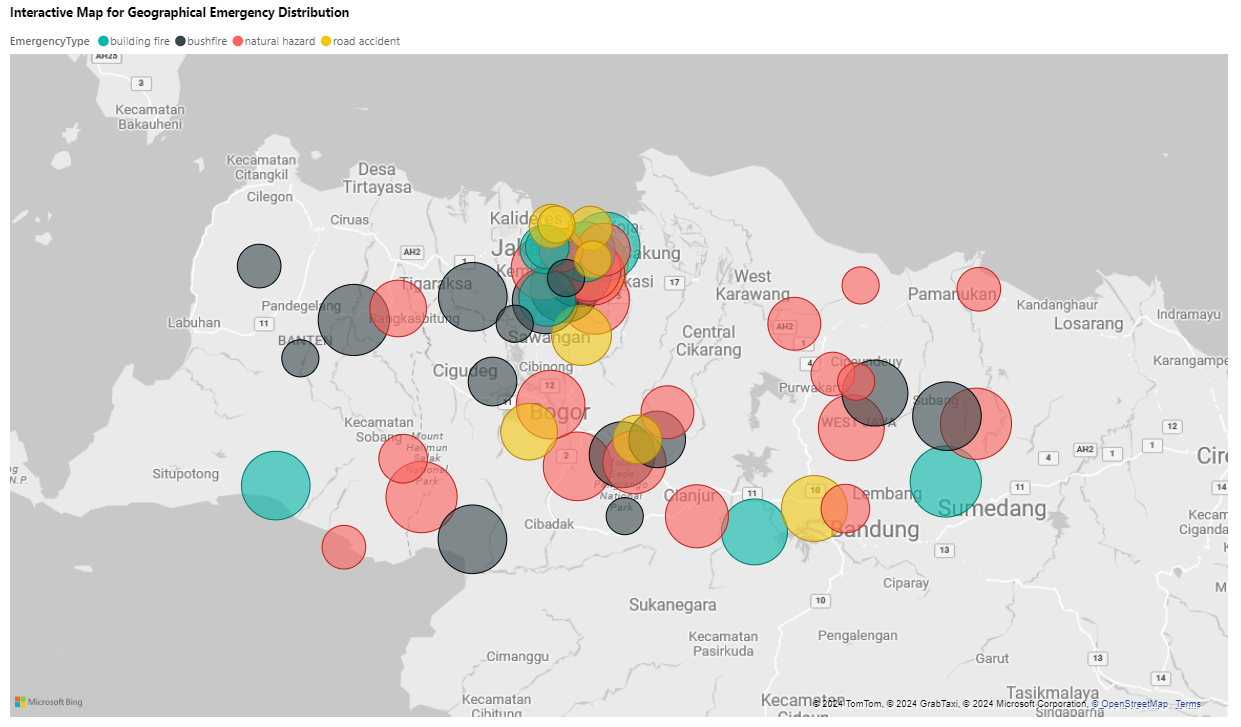

The dashboard page shown, as its layout file describes it:
{"tool":"powerbi","page":{"name":"C03","canvas":[1280,720],"ordinal":12},"visuals":[{"type":"map","title":"Interactive Map for Geographical Emergency Distribution","fields":{"Y":["dummy.Location_Latitude"],"X":["dummy.Location_Longitude"],"Series":["dummy.EmergencyType"],"Size":["Sum(dummy.Human_Casualties)"]},"box":[41.6,17,1169.8,684.1],"z":0}]}

Visuals, with their boxes on the page's 1280x720 design canvas (x1, y1, x2, y2). These are canvas units, not pixel positions in the 1241x727 screenshot, which may show the page scaled, cropped or inside an application window:
"Interactive Map for Geographical Emergency Distribution" map: (42,17,1211,701)
